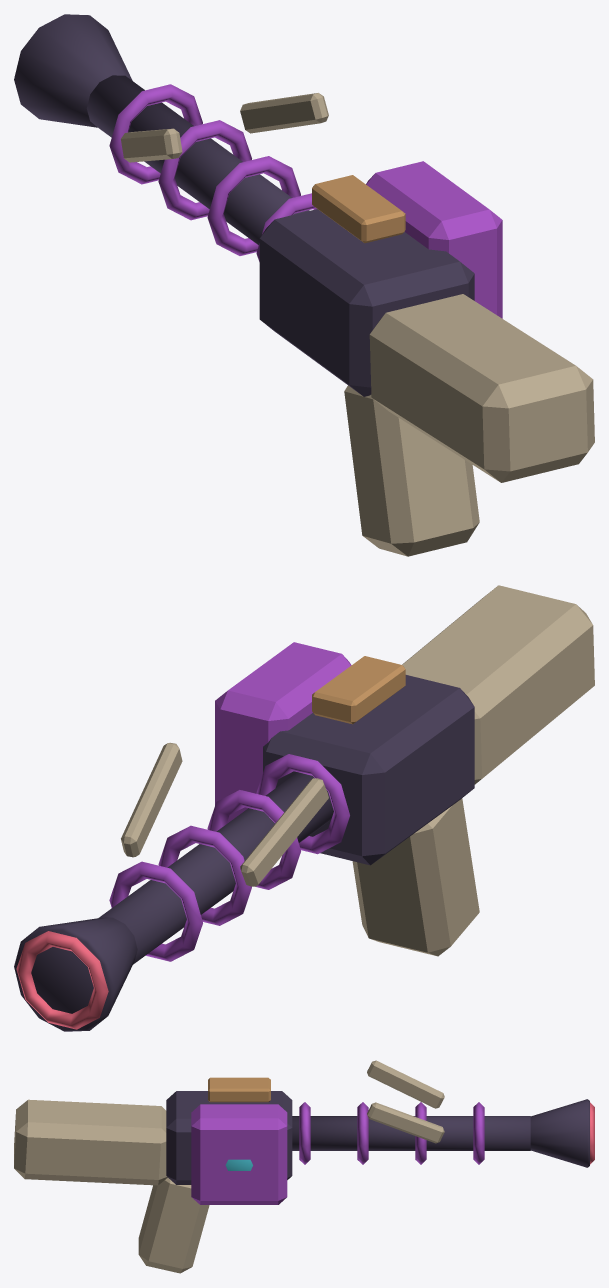
File: SiphonRifle.glb
3 views of the same model, one above another, from view 1: azimuth 30°, elevation 25°; view 2: azimuth 150°, elevation 25°; view 3: azimuth 270°, elevation 25° (orthographic). The views are drawn at different scales.
Parts seen in each view (by area): view 1: Stock, Receiver, Grip, Reservoir housing, Siphon barrel, Siphon emitter, Top sight, Violet coil.001, Violet coil.003, Violet coil.002, Bone talon right, Bone talon left (+1 smaller); view 2: Receiver, Stock, Grip, Reservoir housing, Siphon barrel, Siphon emitter, Top sight, Emitter ring, Bone talon left, Violet coil.003, Violet coil, Violet coil.002 (+2 smaller); view 3: Stock, Reservoir housing, Siphon barrel, Grip, Receiver, Siphon emitter, Top sight, Bone talon left, Bone talon right, Violet coil, Violet coil.003, Violet coil.001 (+3 smaller).
Boxes of the visible parts, box(x1,y1,x2,y2) form: Stock: box(369, 294, 594, 482); Receiver: box(259, 209, 474, 396); Grip: box(344, 385, 479, 556); Reservoir housing: box(366, 161, 502, 318); Siphon barrel: box(86, 75, 309, 245); Siphon emitter: box(14, 14, 132, 127); Top sight: box(312, 175, 405, 243); Violet coil.001: box(207, 156, 300, 255); Violet coil.003: box(109, 84, 202, 184); Violet coil.002: box(158, 120, 251, 220); Bone talon right: box(240, 93, 328, 133); Bone talon left: box(121, 128, 182, 162); Receiver: box(263, 675, 474, 865); Stock: box(402, 585, 594, 784); Grip: box(352, 798, 479, 956); Reservoir housing: box(215, 642, 351, 823); Siphon barrel: box(98, 772, 333, 964); Siphon emitter: box(14, 917, 137, 1031); Top sight: box(312, 656, 405, 724); Emitter ring: box(16, 931, 108, 1029); Bone talon left: box(240, 778, 328, 886); Violet coil.003: box(109, 861, 202, 961); Violet coil: box(256, 754, 349, 854); Violet coil.002: box(158, 825, 251, 925); Stock: box(14, 1099, 167, 1185); Reservoir housing: box(191, 1104, 287, 1204); Siphon barrel: box(292, 1116, 530, 1150); Grip: box(138, 1178, 209, 1273); Receiver: box(166, 1091, 292, 1184); Siphon emitter: box(530, 1099, 589, 1167); Top sight: box(208, 1077, 270, 1102); Bone talon left: box(367, 1060, 444, 1108); Bone talon right: box(367, 1102, 444, 1143); Violet coil: box(299, 1102, 310, 1164); Violet coil.003: box(473, 1102, 484, 1164); Violet coil.001: box(357, 1102, 368, 1164).
Bounding box in the file's own units: 0.5244 × 0.7998 × 2.3.
